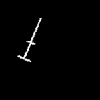double_crochet: (18, 18, 40, 61)
